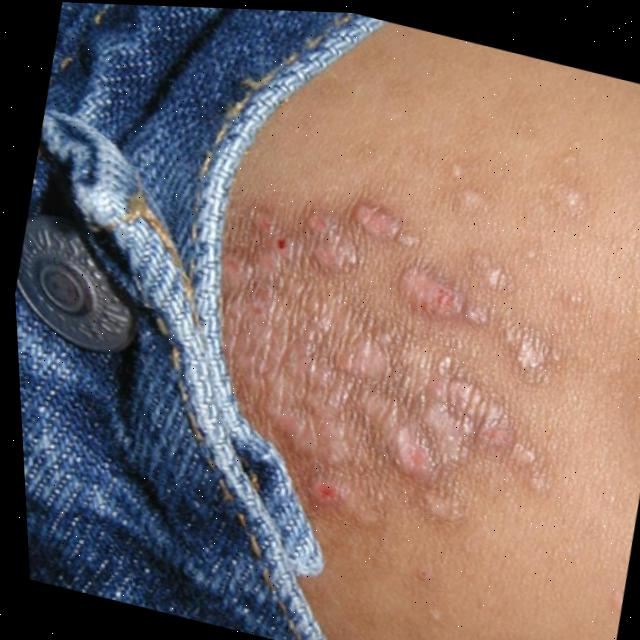Eczema: (185, 116, 617, 563)
